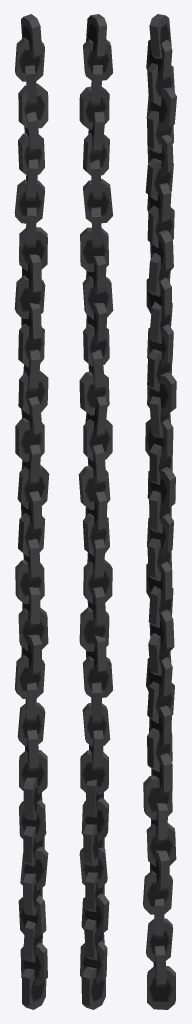
Rendered from SM_Gen_Prop_Chain_01.001.obj.
3 views of the same model, side by side, from view 1: azimuth 30°, elevation 25°; view 2: azimuth 210°, elevation 25°; view 3: azimuth 330°, elevation 25° (orthographic).
Visible parts, largest first — view 1: SM_Gen_Prop_Chain_01.001_0; view 2: SM_Gen_Prop_Chain_01.001_0; view 3: SM_Gen_Prop_Chain_01.001_0.
Boxes of the visible parts, <box> form: SM_Gen_Prop_Chain_01.001_0: <box>14,14,49,1009</box>; SM_Gen_Prop_Chain_01.001_0: <box>78,14,113,1009</box>; SM_Gen_Prop_Chain_01.001_0: <box>143,14,176,1009</box>.
Bounding box in the file's own units: 0.0924 × 2.93 × 0.0858.
Materials: 1 (1 with a texture image).
